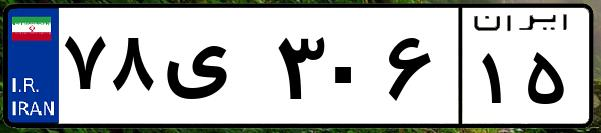0: (330, 28, 385, 110)
1: (475, 38, 525, 113)
3: (270, 28, 330, 110)
5: (525, 38, 570, 115)
6: (385, 28, 445, 110)
7: (57, 26, 110, 100)
8: (110, 28, 158, 98)
ی: (158, 20, 270, 120)
